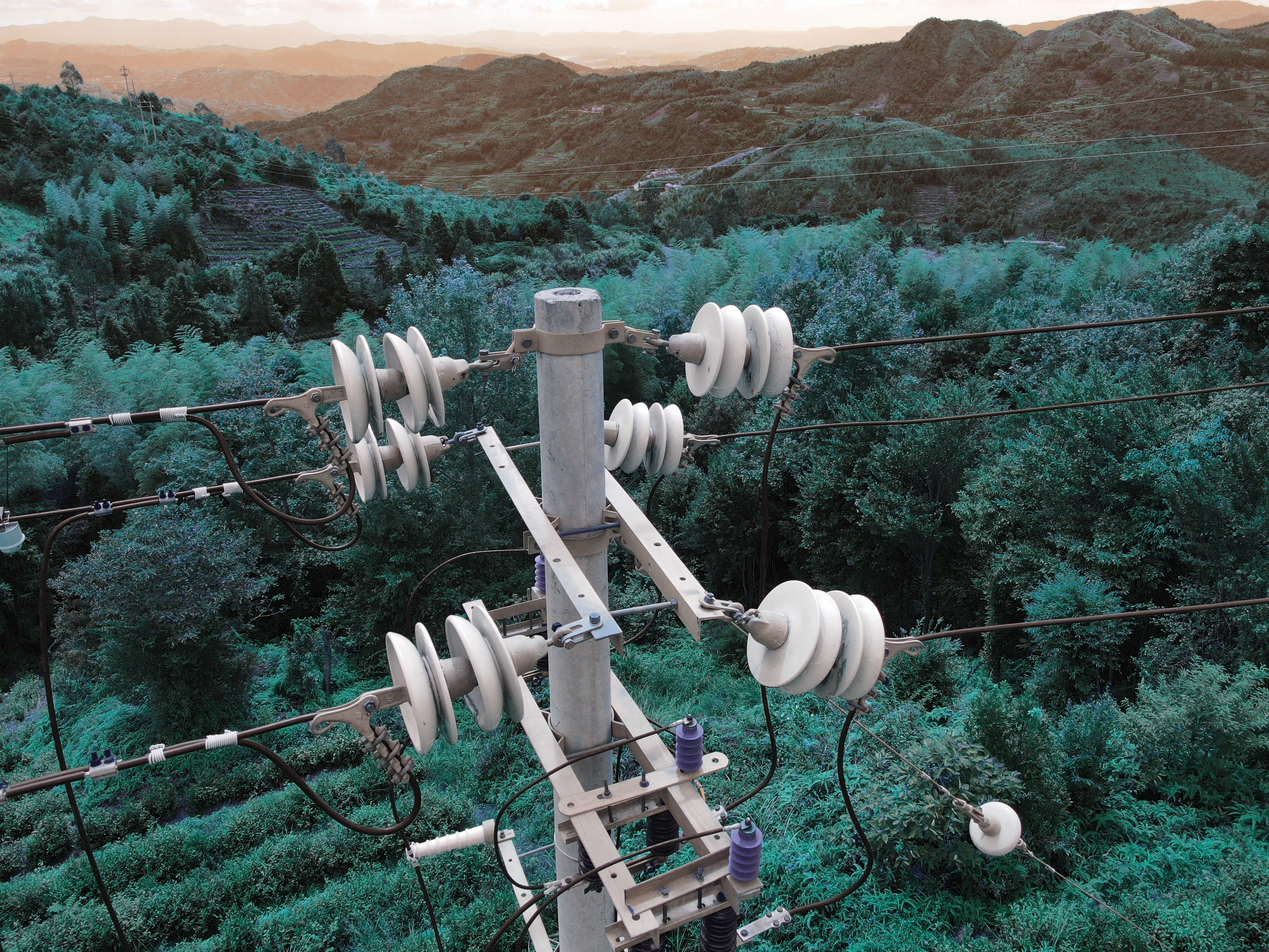severe_soiling_no_discharge_whole: (740, 575, 893, 705), (667, 301, 795, 402), (605, 398, 687, 478), (86, 747, 121, 780), (67, 414, 95, 438), (156, 486, 176, 508), (92, 497, 112, 517)
